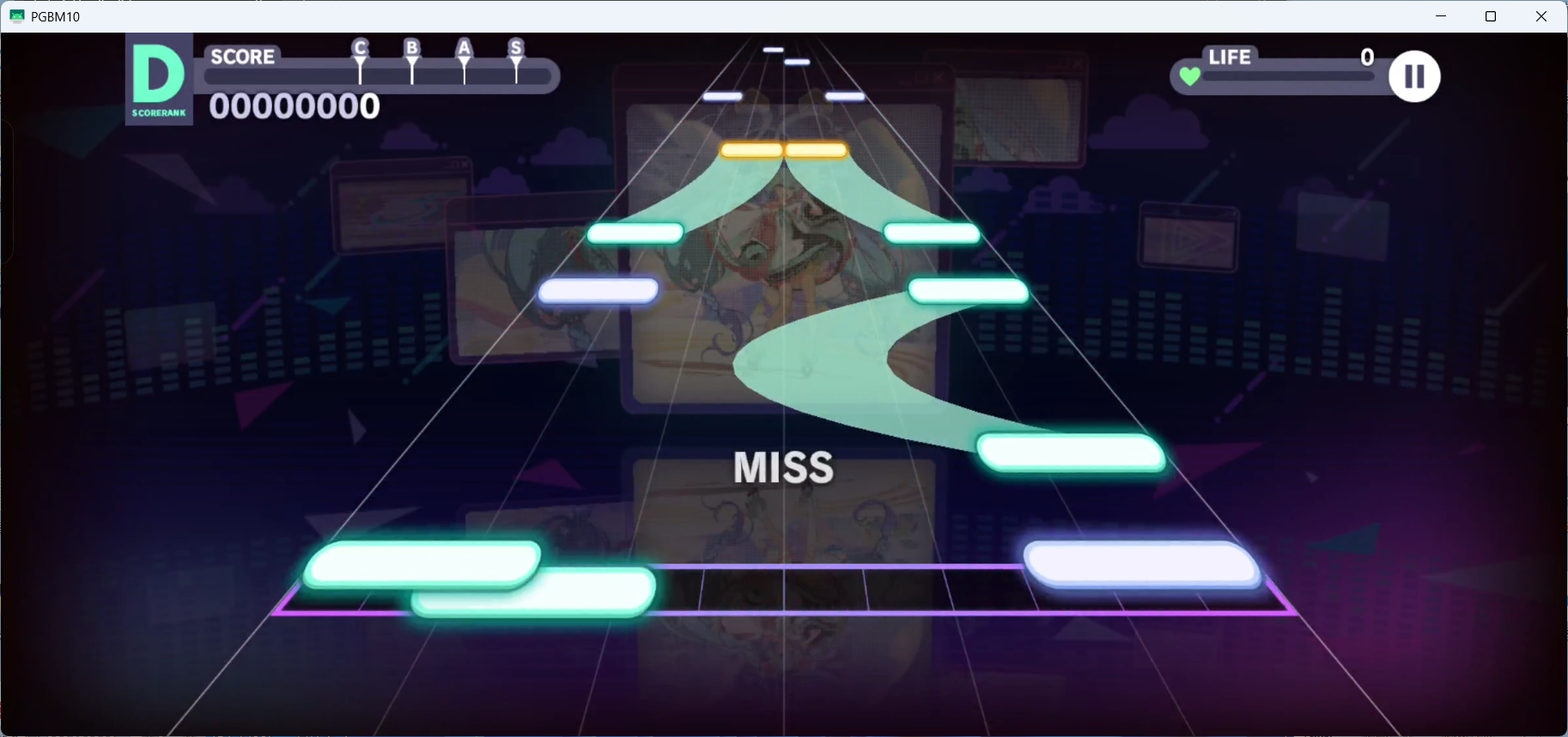hold: (732, 305, 1054, 432), (616, 158, 783, 223), (785, 160, 953, 224)
tap: (412, 565, 657, 617), (304, 540, 541, 592), (1022, 540, 1262, 587), (976, 432, 1166, 473), (539, 276, 659, 305), (909, 275, 1027, 304), (585, 222, 684, 244), (884, 223, 980, 243), (784, 144, 847, 158), (721, 143, 781, 156), (702, 92, 742, 100), (825, 93, 865, 100), (783, 59, 810, 65), (763, 47, 783, 52)
